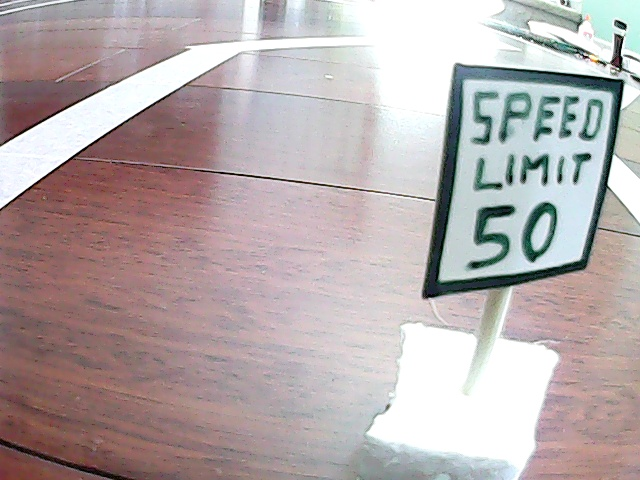speed_50: (417, 58, 625, 464)
